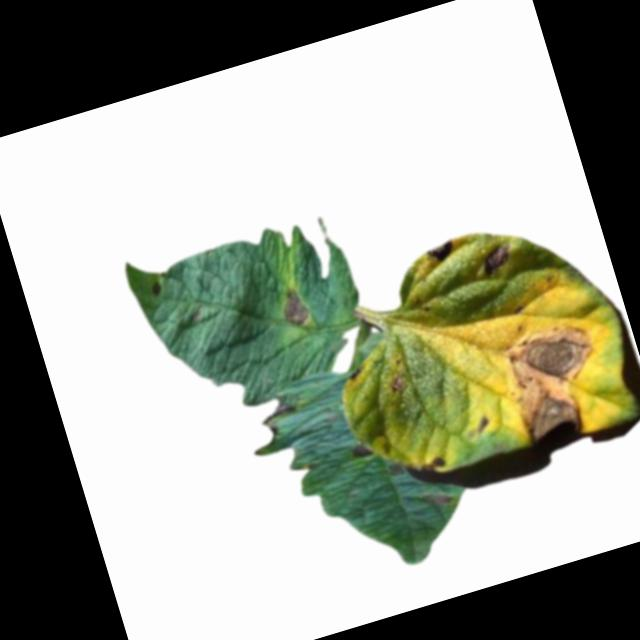Early_blight: (496, 314, 616, 446), (278, 286, 313, 331), (477, 242, 514, 278), (423, 235, 458, 268), (420, 453, 448, 474), (385, 372, 407, 394), (350, 441, 373, 460), (386, 458, 405, 476), (149, 279, 164, 298)
